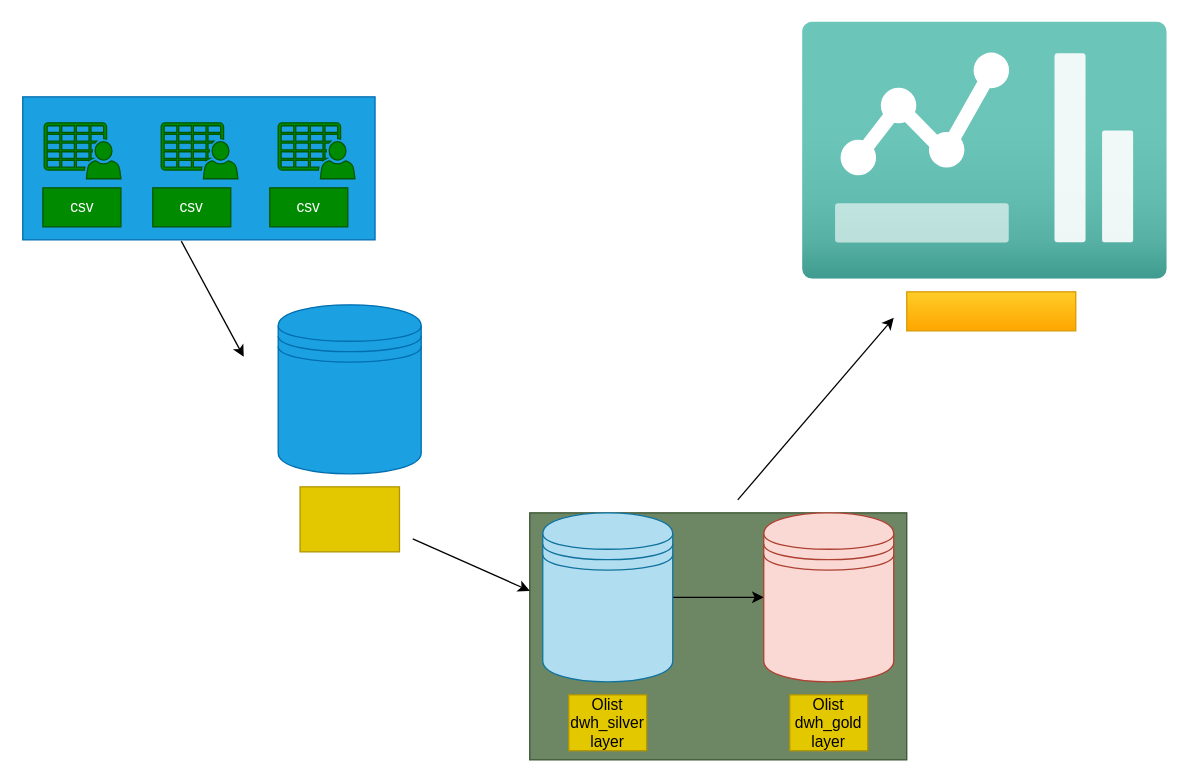
This 1190x783 diagram has some shape labels left out. The shapes that lost their labels are listed below. From the top down, each one's centre as x and y in pixels, then its label:
the point at 990,311: Business Reporting, Dashboards etc.
the point at 349,519: Olist stg_bronze layer
